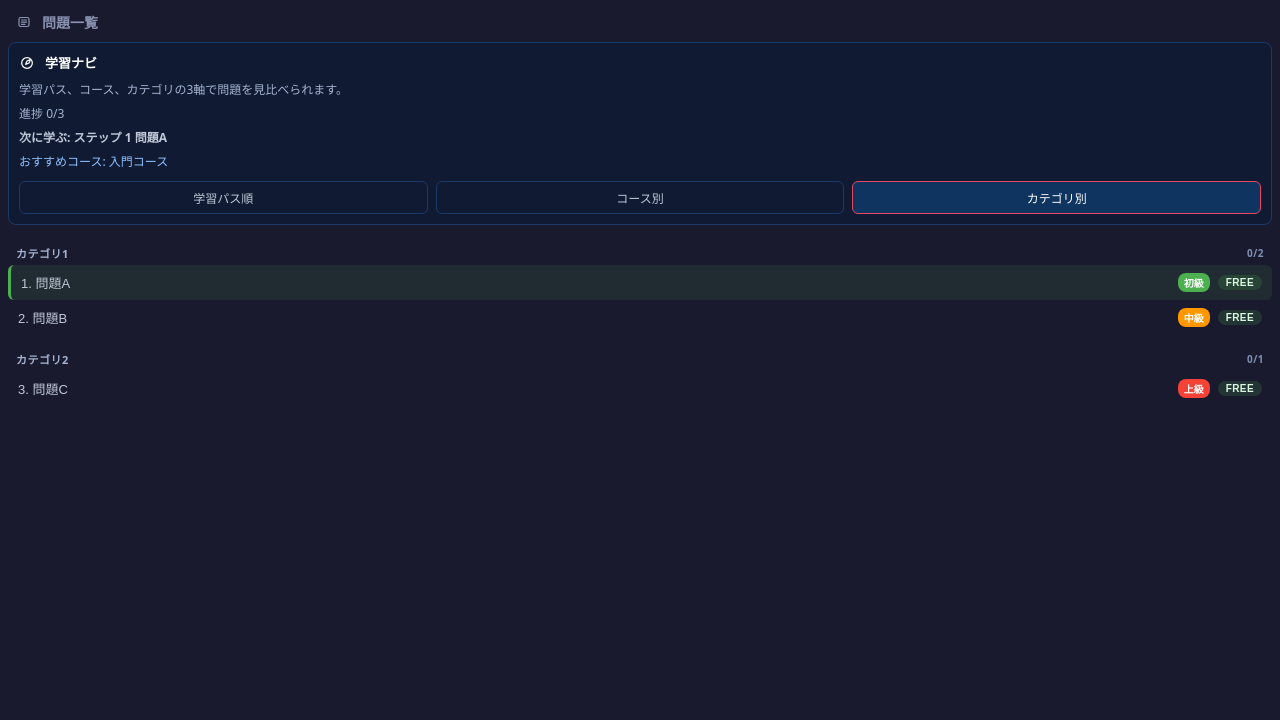
Test: ProblemList › コース別に切り替えるとコース見出しごとに一覧表示する
Click the button "コース別".
click(640, 197)  # box x1=436 y1=180 x2=844 y2=214
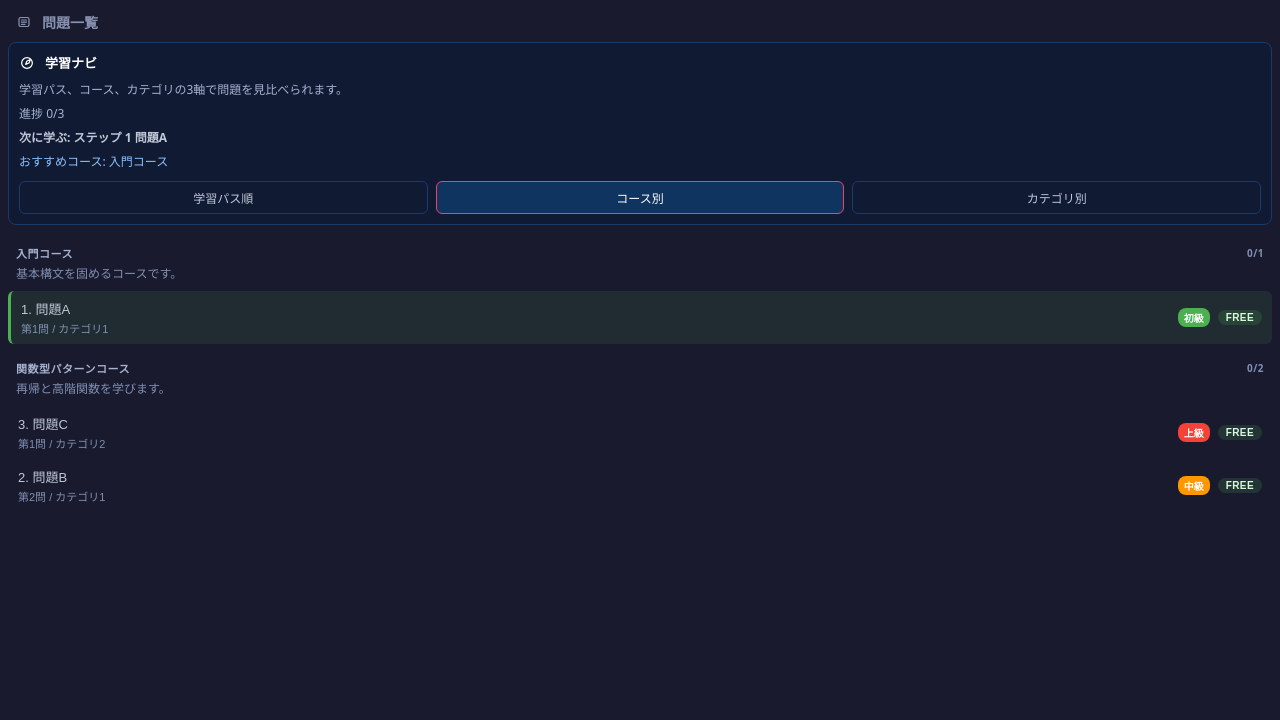
expect the text "関数型パターンコース" is shown: met, box x1=16 y1=360 x2=130 y2=376
expect the text "再帰と高階関数を学びます。" is shown: met, box x1=16 y1=380 x2=171 y2=396
expect the button "3. 問題C 第1問 / カテゴリ2 上級 Free" is shown: met, box x1=8 y1=406 x2=1272 y2=458
